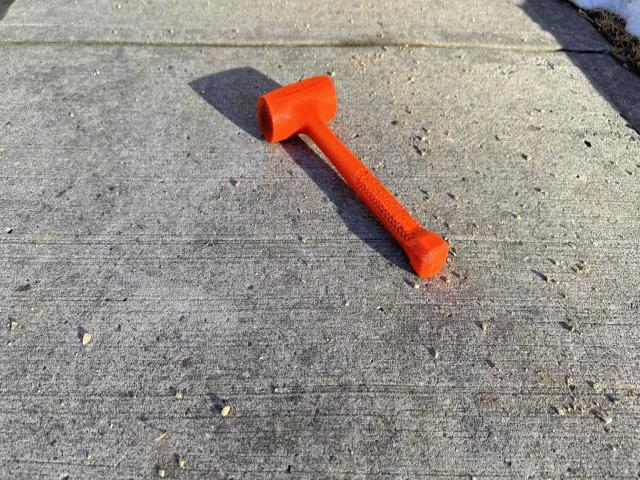hammer: (256, 73, 449, 277)
